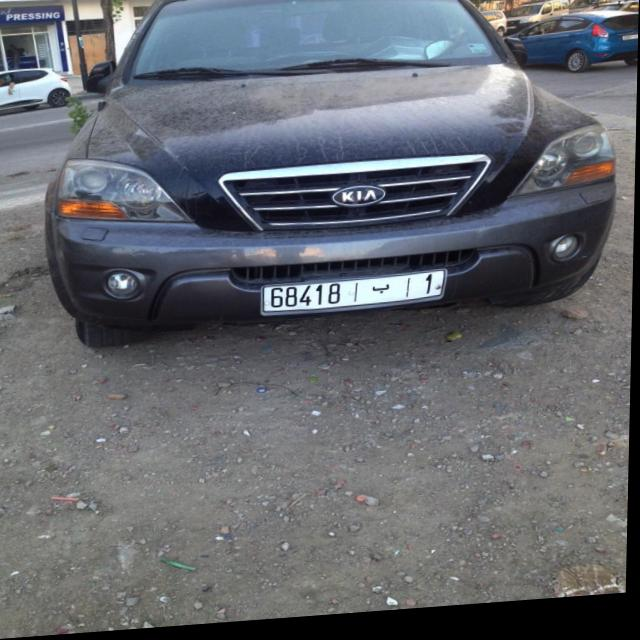License-Plate: (263, 276, 448, 320)
